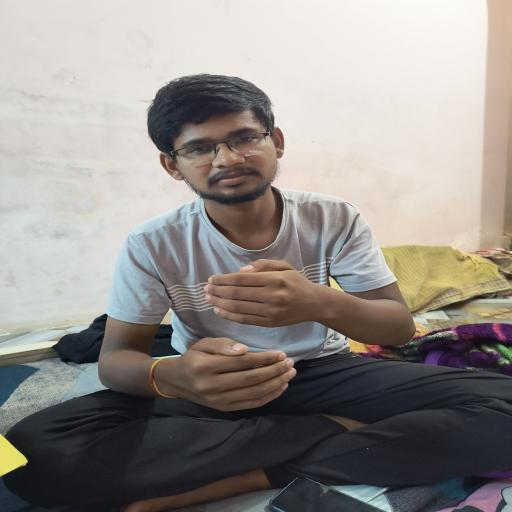Good: (162, 242, 348, 444)
